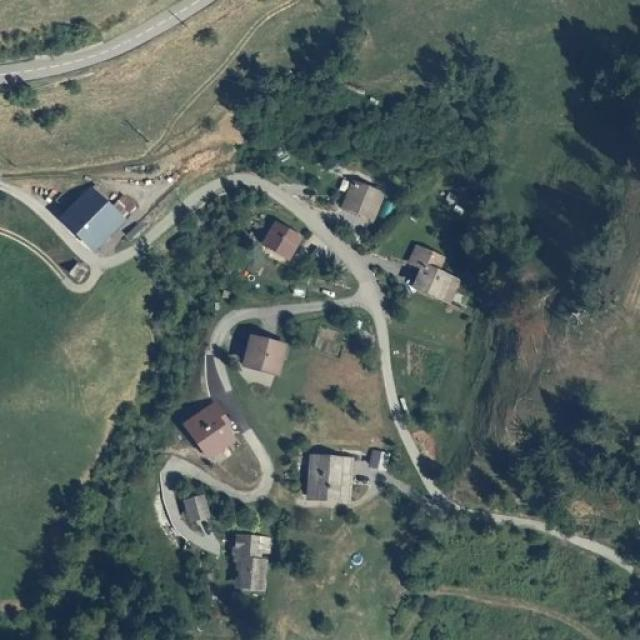ferme: (45, 176, 132, 258)
maison: (176, 397, 242, 465), (402, 238, 463, 307), (301, 445, 359, 508), (229, 528, 279, 599), (331, 172, 388, 228), (238, 326, 294, 382), (256, 217, 304, 264), (181, 491, 217, 530)
